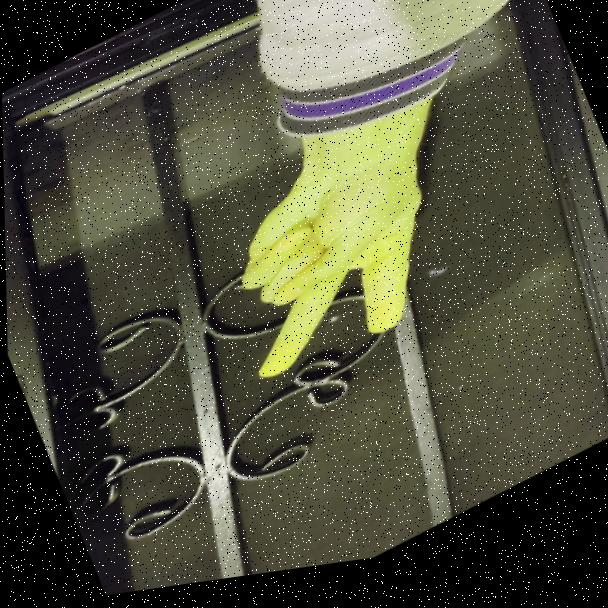two: (188, 126, 485, 416)
